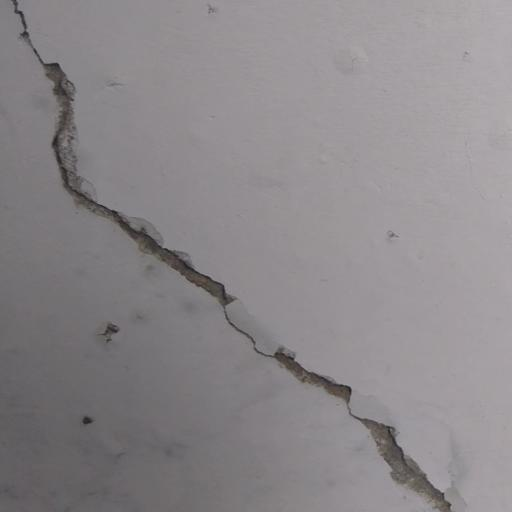major_crack: (6, 0, 453, 512)
